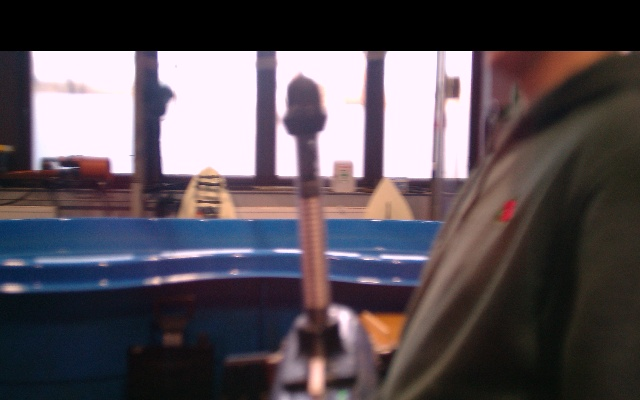black: (298, 183, 333, 322)
